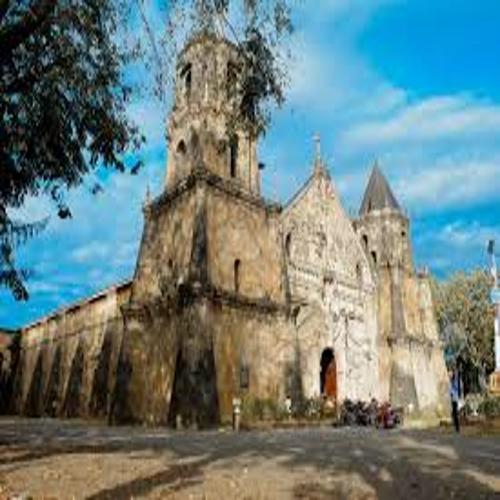Miagao Church: (118, 23, 463, 441)
